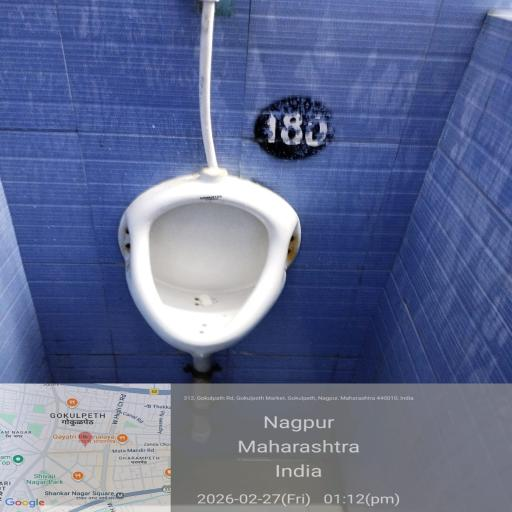clean_floor: (41, 16, 500, 134)
clean_urinal: (102, 159, 316, 350)
partial_dirty_floor: (32, 376, 512, 495)
